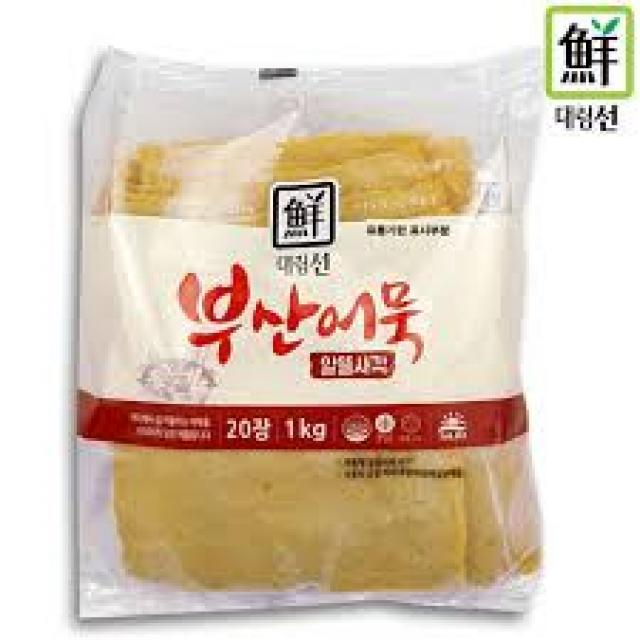fish_cake: (88, 77, 529, 597)
